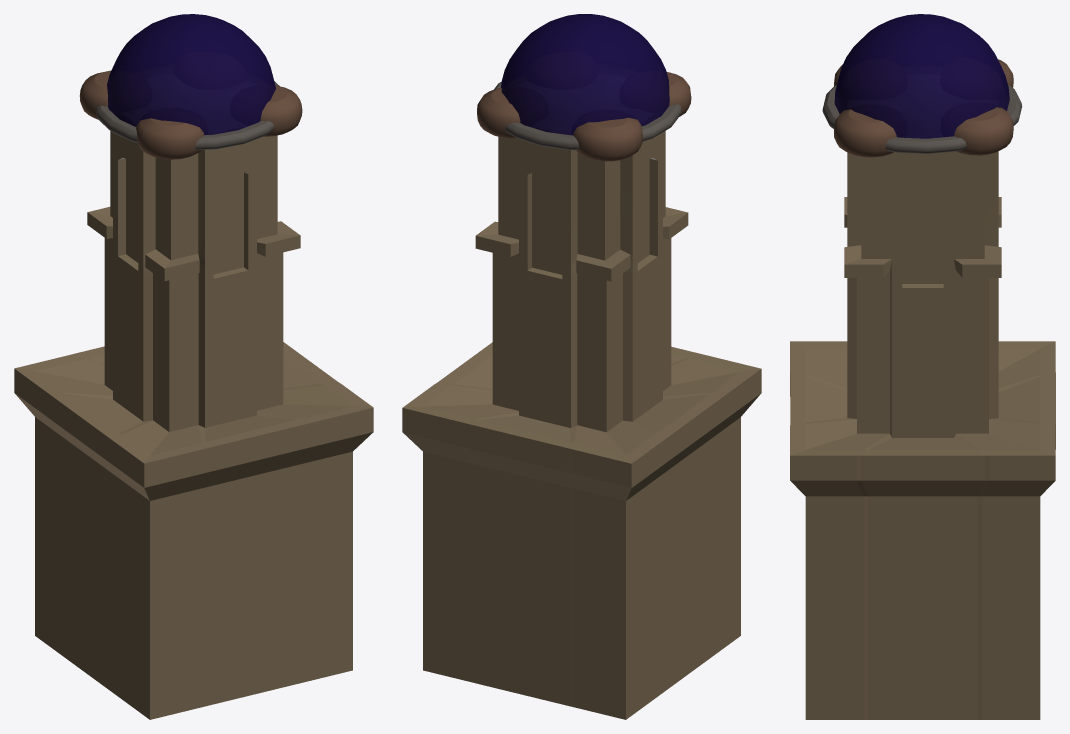
The model's file is TallCone.fbx.
3 views of the same model, side by side, from view 1: azimuth 30°, elevation 25°; view 2: azimuth 150°, elevation 25°; view 3: azimuth 270°, elevation 25° (orthographic). The views are drawn at different scales.
Parts seen in each view (by area): view 1: TallObsorb; view 2: TallObsorb; view 3: TallObsorb.
Part boxes in pixels (bbox=[...]): TallObsorb: bbox=[14, 14, 373, 719]; TallObsorb: bbox=[402, 14, 761, 719]; TallObsorb: bbox=[790, 14, 1055, 719].
Size of the model in its own units: 7.59 by 19.97 by 7.45.
